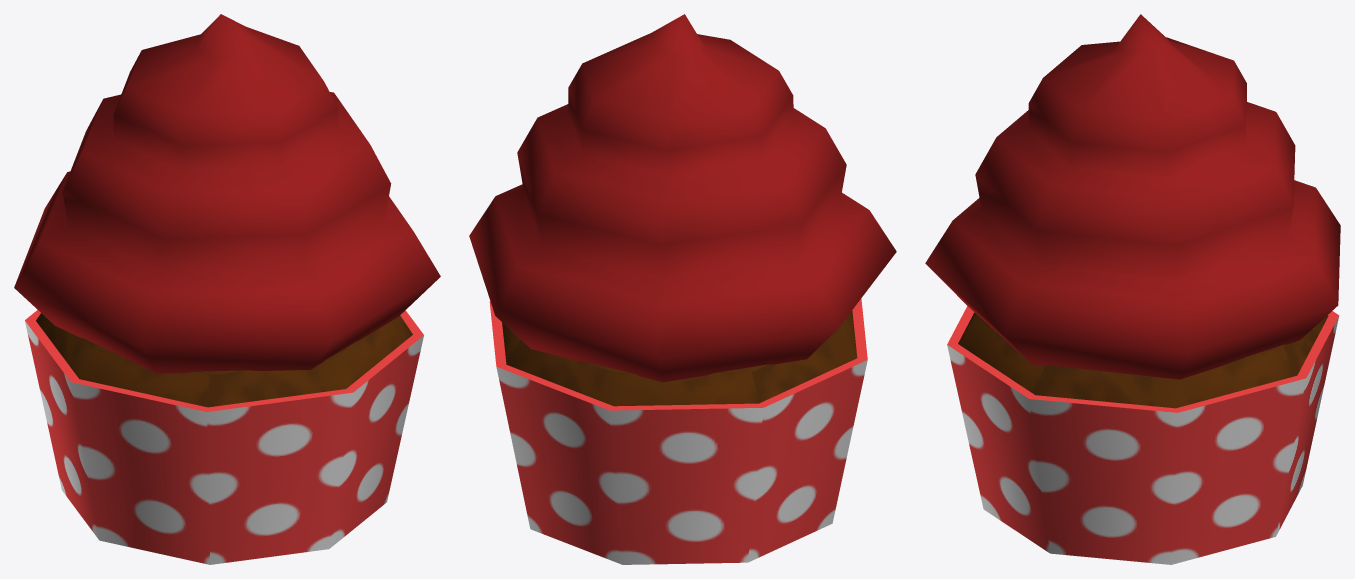
Rendered from Cupcake_A.FBX.
The picture shows the model from 3 angles, left to right: view 1: azimuth 30°, elevation 25°; view 2: azimuth 150°, elevation 25°; view 3: azimuth 270°, elevation 25°; orthographic projection.
Parts seen in each view (by area): view 1: Cupcake; view 2: Cupcake; view 3: Cupcake.
Part boxes in pixels (box(x1,y1,x2,y2)): Cupcake: box(14, 14, 440, 564); Cupcake: box(469, 14, 896, 564); Cupcake: box(925, 14, 1340, 564).
Size of the model in its own units: 34.42 by 43.01 by 33.65.
